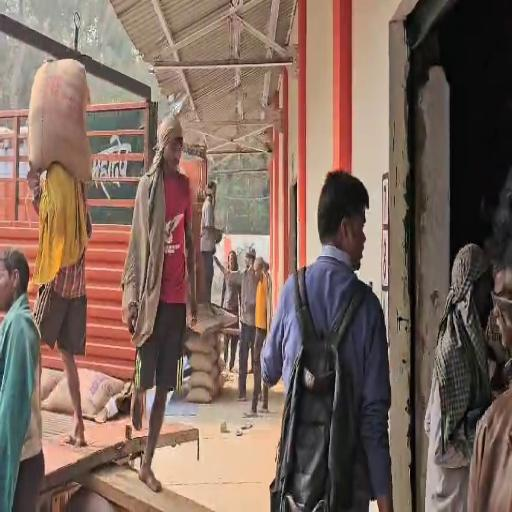bag: (27, 58, 99, 193)
